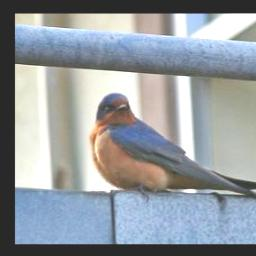Swallow: (89, 92, 256, 206)
